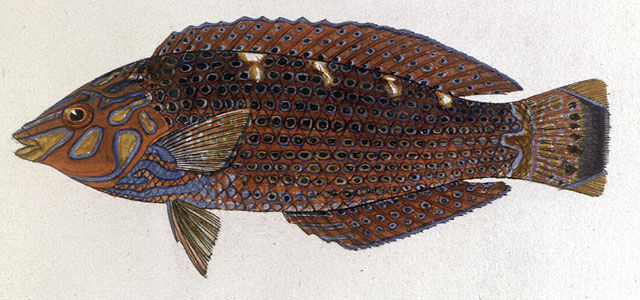fish: (13, 15, 611, 278)
